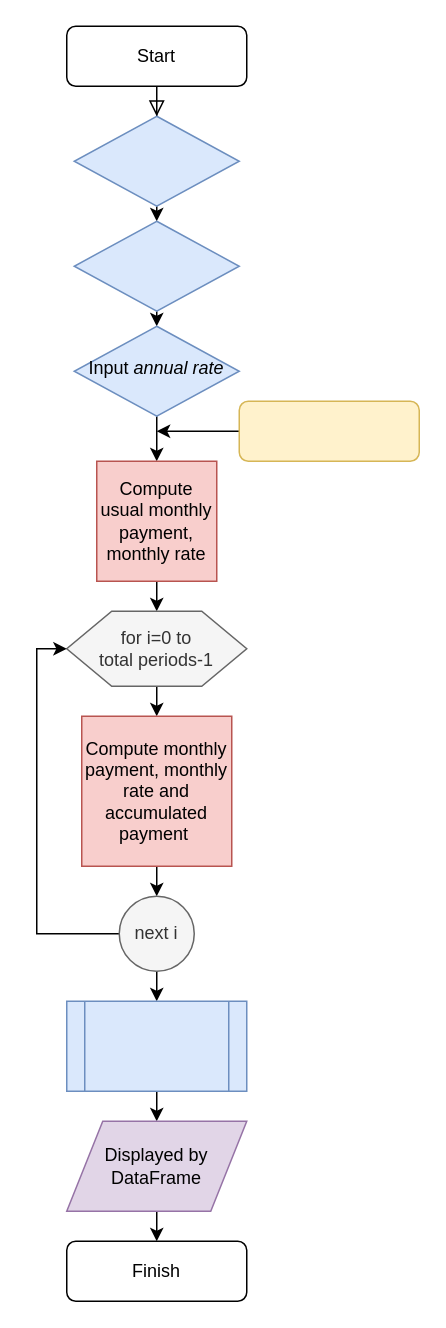
Some shapes in this 446 by 1328 pixel diagram are drawn without their labels. Each missing label, with the centre of its shape:
Define round function: (328,430)
Input principle: (156,160)
Input year: (156,265)
Save all data to data: (156,1045)
